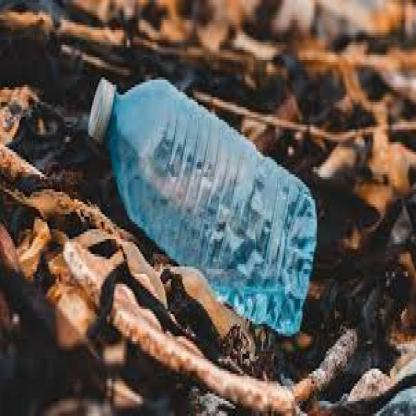Plastic Bottle: (88, 79, 317, 336)
